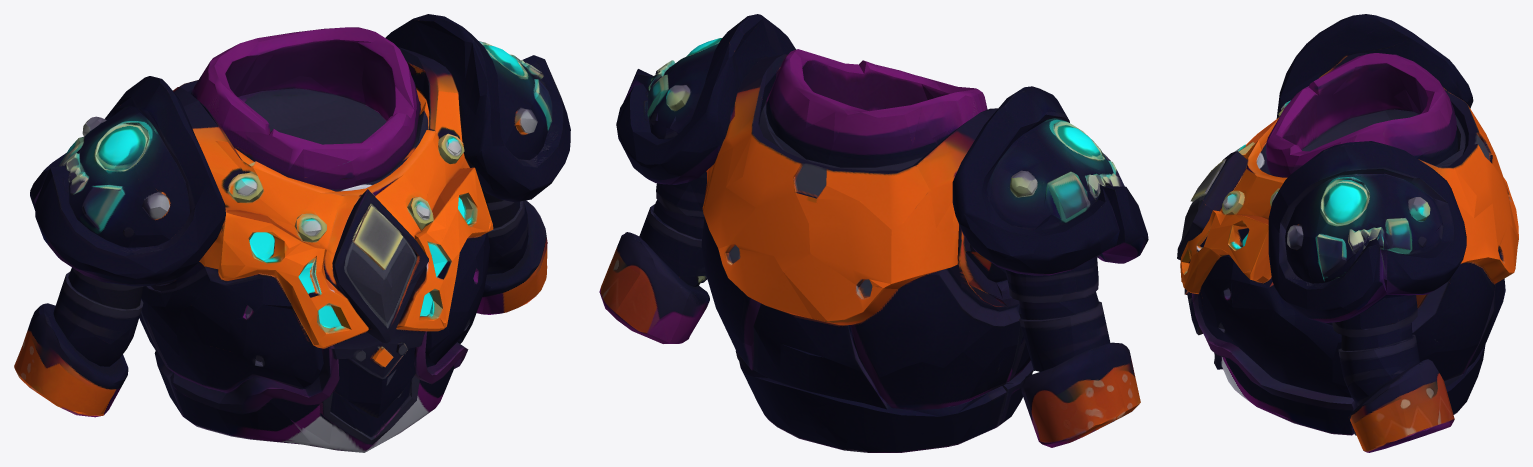
File: hw-armor.glb
3 views of the same model, side by side, from view 1: azimuth 30°, elevation 25°; view 2: azimuth 150°, elevation 25°; view 3: azimuth 270°, elevation 25° (orthographic). The views are drawn at different scales.
Bounding box in the file's own units: 1.9 × 1.22 × 1.2.
1 material, 1 textured.
